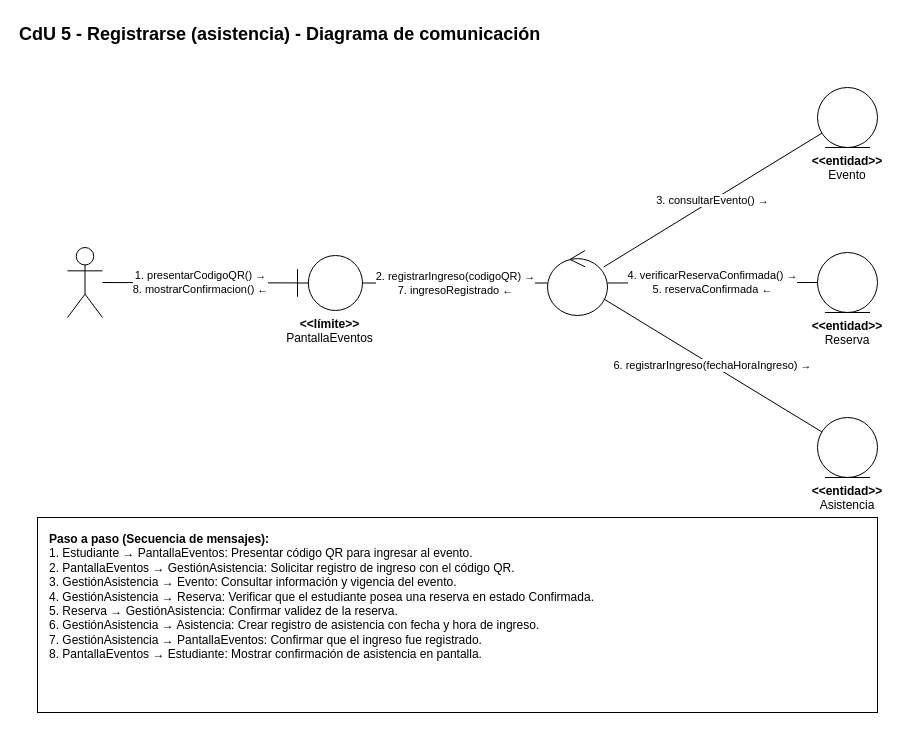
Image size: 900x730. Some labels were removed from this diagram. The shapes that lost their labels are listed below. From the top down, each one's centre as x and y in pixels, then its label:
At point (84, 282): "<<actor>> Estudiante".
At point (577, 283): "<<control>> GestiónAsistencia".
